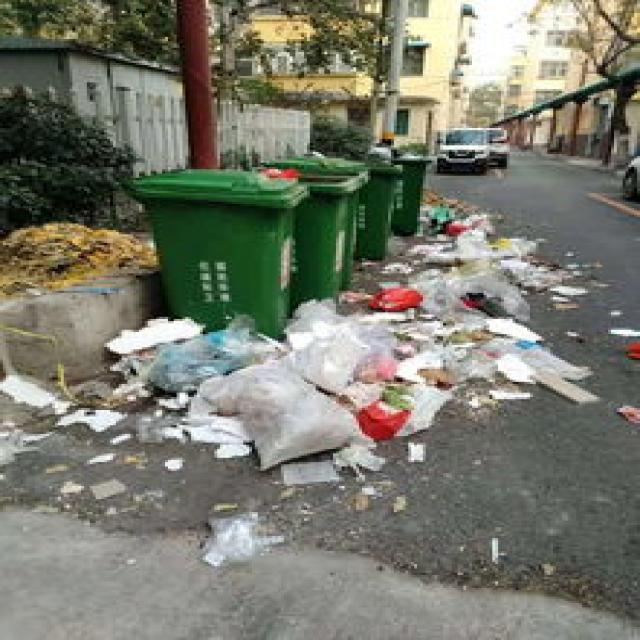garbage: (0, 188, 637, 572)
garbage_bin: (122, 167, 304, 334), (298, 156, 368, 300), (353, 157, 400, 260), (388, 156, 434, 234)
